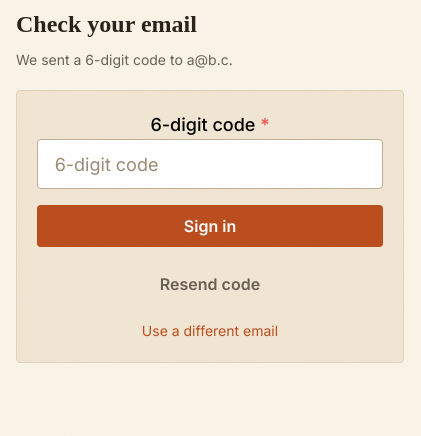
it: Code page honest errors (BA-DS-007, TICKET-024) › shows the truthful throttle message on a 429 resend
Click the button "Resend code": x=210, y=284 [37, 263, 383, 305]
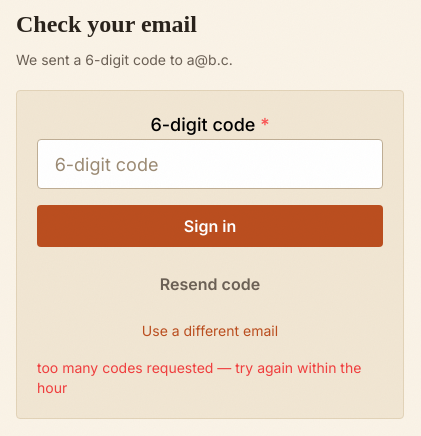
Check: the message shows "too many codes requested", box [37, 359, 361, 396]
